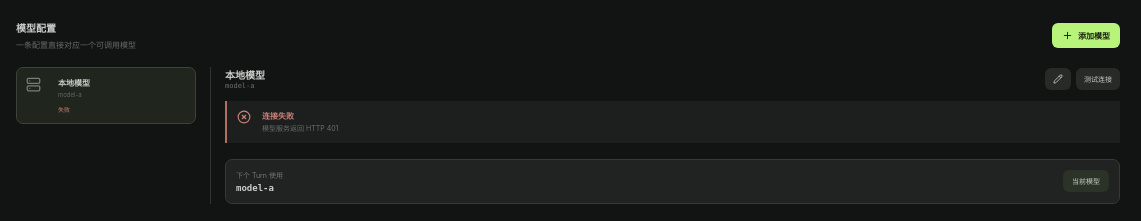
Scenario: 模型连接测试 › 测试成功后展示明确反馈
The width and height of the screenshot is (1141, 221).
Click the button "测试连接" at [1098, 78], box [1076,68,1120,90]
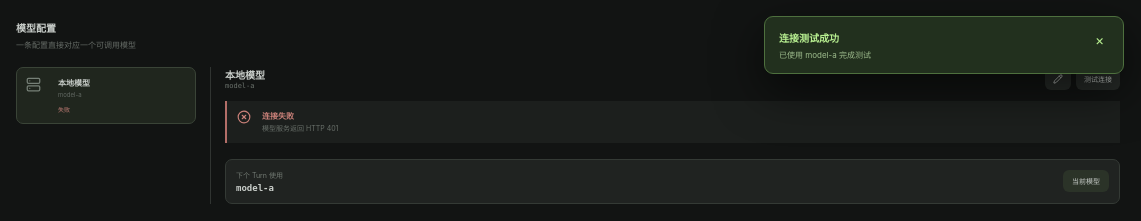
Now the message shows "连接测试成功", box [779,32,839,44]
Now the message shows "已使用 model-a 完成测试", box [779,50,871,60]
